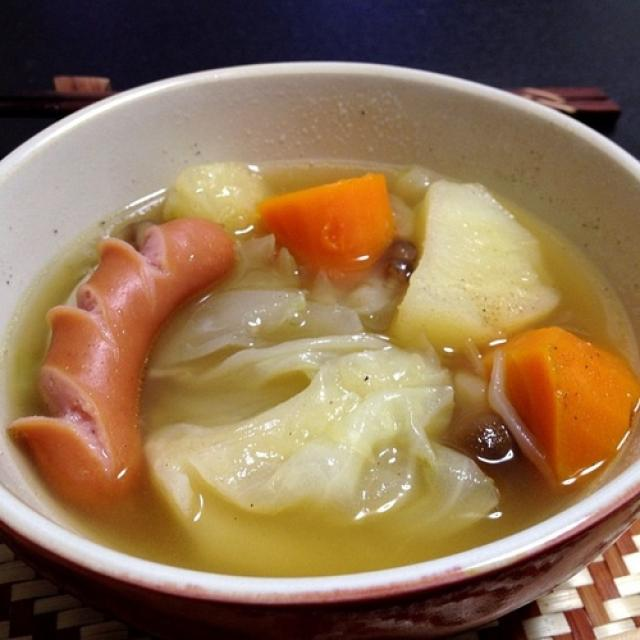汤锅炖物: (9, 60, 637, 611)
